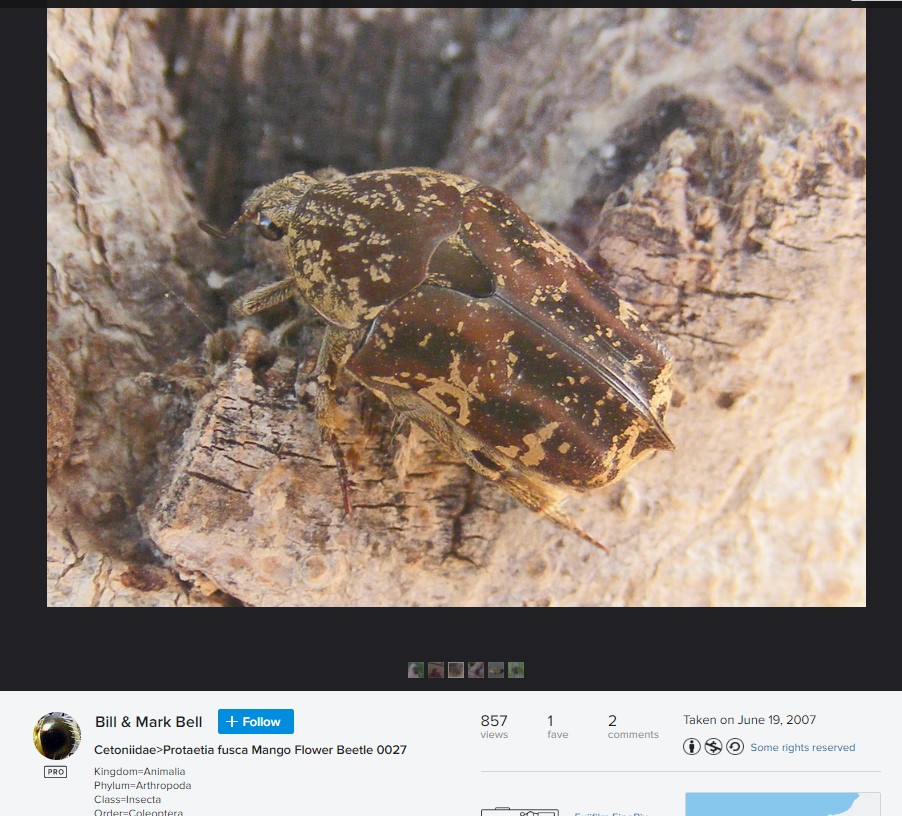Protaetia_fusca: (225, 159, 686, 556)
